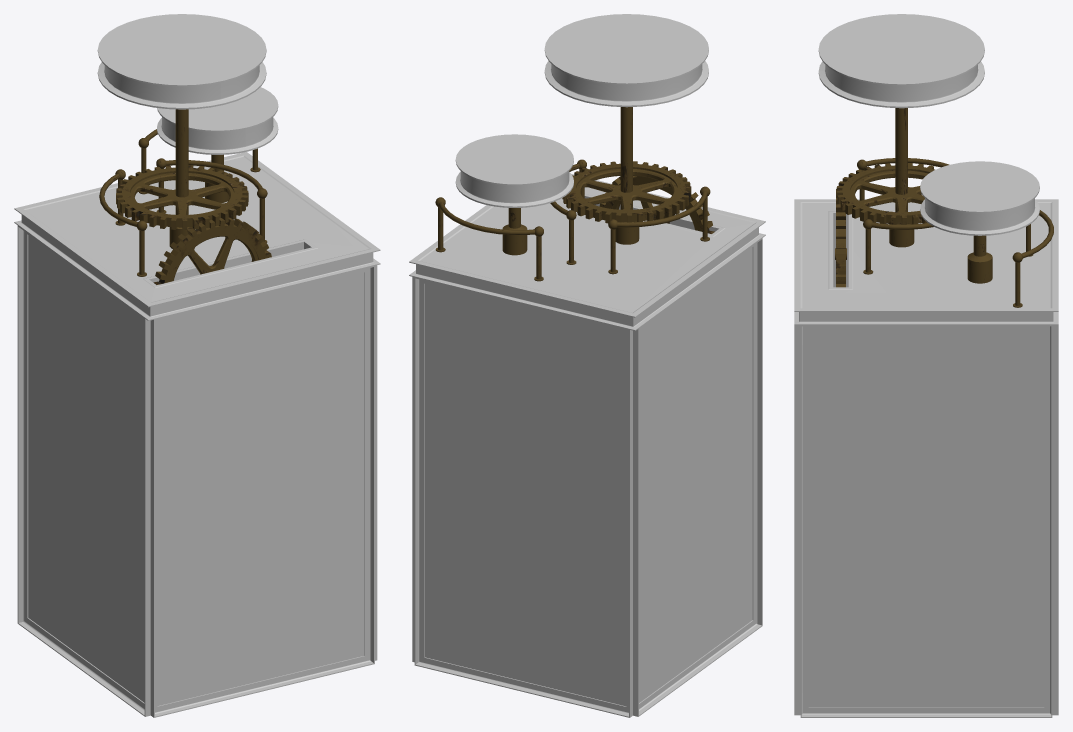
File: PlatformStack3.fbx
3 views of the same model, side by side, from view 1: azimuth 30°, elevation 25°; view 2: azimuth 150°, elevation 25°; view 3: azimuth 270°, elevation 25° (orthographic). The views are drawn at different scales.
Visible parts, largest first — view 1: PlatformStack3, PlatformCircularLarge, PlatformCircularSmall, GearLarge, Railing02, Railing03; view 2: PlatformStack3, PlatformCircularLarge, PlatformCircularSmall, Railing01, Railing03, GearLarge, Railing02; view 3: PlatformStack3, PlatformCircularLarge, PlatformCircularSmall, Railing01, GearLarge, Railing02, Railing03.
Part boxes in pixels (x1,y1,x2,y2): PlatformStack3: (14, 152, 380, 717); PlatformCircularLarge: (97, 14, 266, 248); PlatformCircularSmall: (157, 87, 278, 202); GearLarge: (153, 217, 271, 284); Railing02: (156, 158, 267, 243); Railing03: (99, 169, 147, 276); PlatformStack3: (409, 174, 765, 717); PlatformCircularLarge: (544, 14, 708, 244); PlatformCircularSmall: (455, 134, 573, 255); Railing01: (435, 197, 543, 281); Railing03: (608, 186, 710, 274); GearLarge: (599, 176, 714, 233); Railing02: (550, 159, 586, 264); PlatformStack3: (794, 199, 1058, 717); PlatformCircularLarge: (818, 14, 984, 247); PlatformCircularSmall: (920, 161, 1039, 283); Railing01: (1012, 210, 1053, 307); GearLarge: (835, 189, 846, 287); Railing02: (863, 219, 933, 274); Railing03: (857, 158, 949, 200).
Size of what is drawn, in the model's own units: 500 by 1252 by 500.
